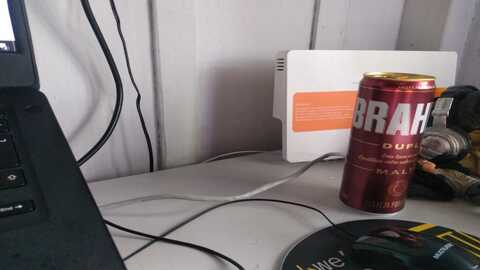duplo_malte: (347, 74, 436, 211)
